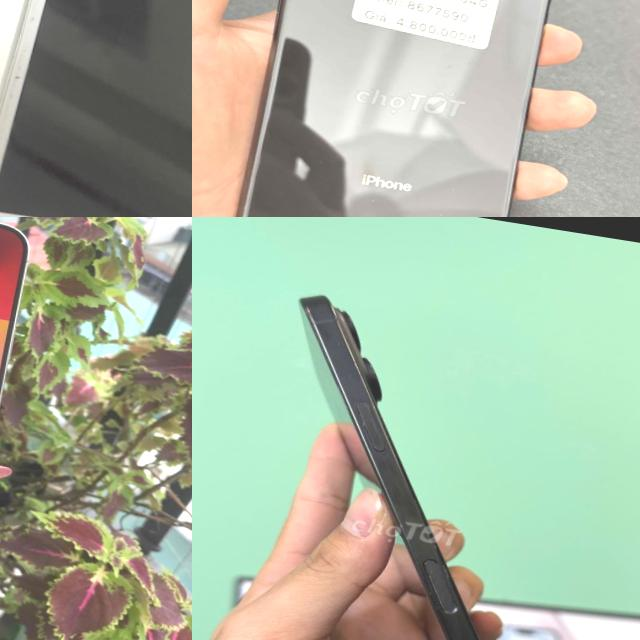gen_16: (300, 296, 478, 640)
gen_6: (0, 0, 192, 217)
gen_x_xs: (235, 0, 548, 217)
scratch: (267, 196, 386, 217), (430, 167, 473, 217), (351, 193, 399, 217)
